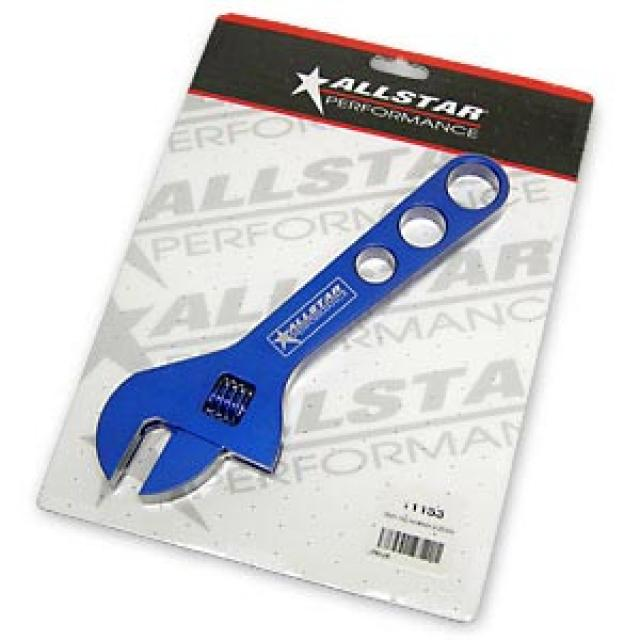wrench: (99, 155, 509, 501)
